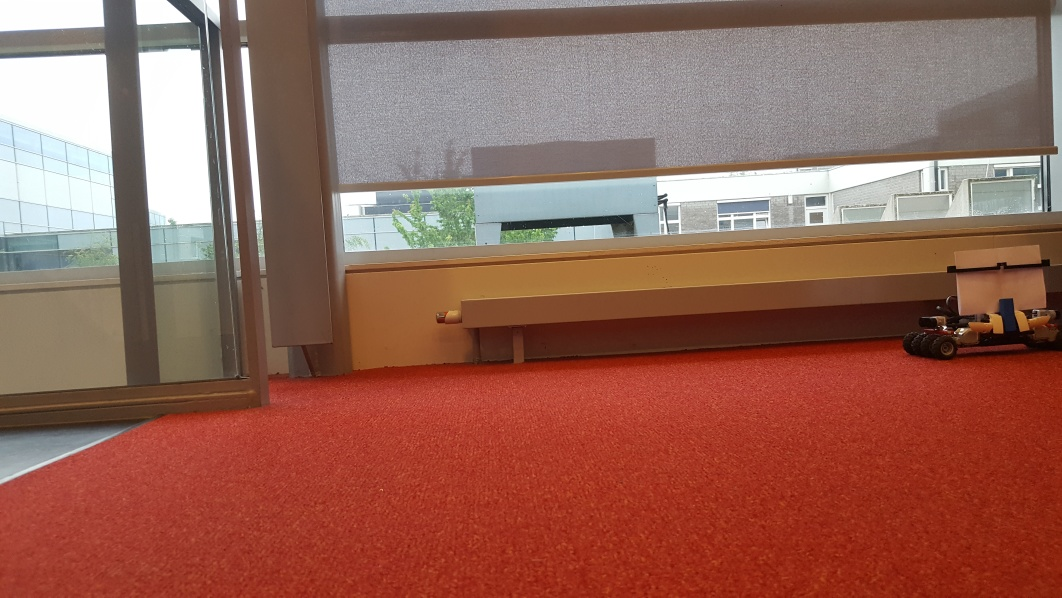car: (903, 242, 1062, 359)
